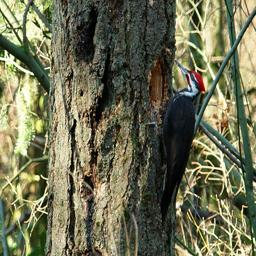bird: (197, 78, 256, 256)
